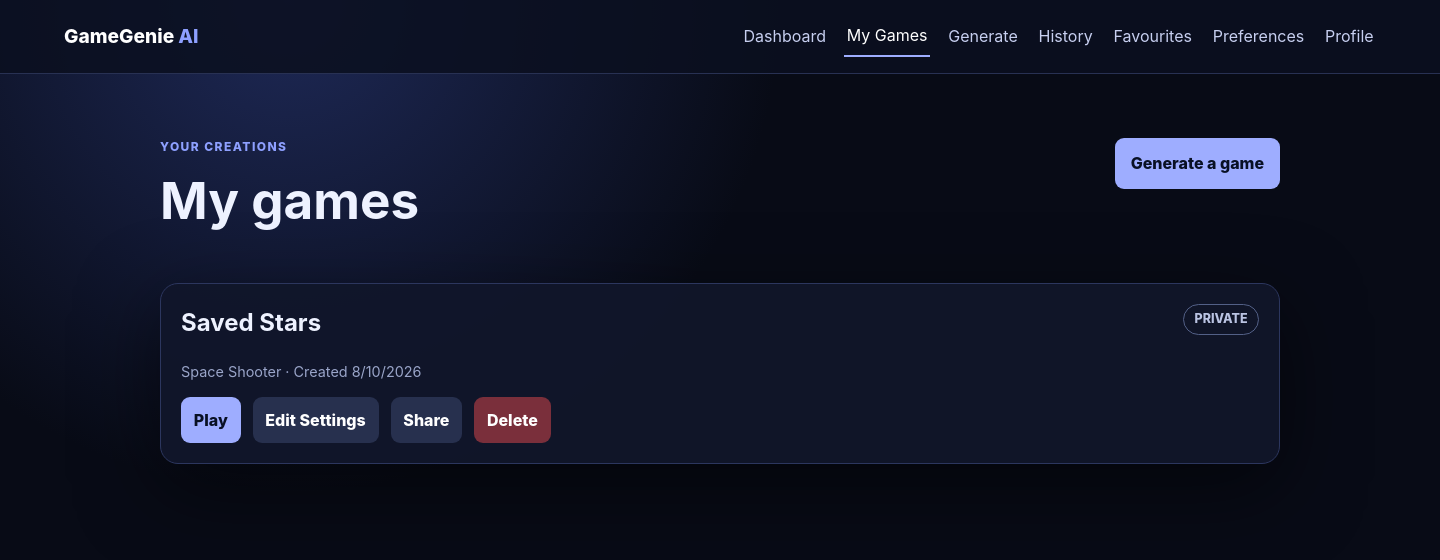
generated-game persistence UI › shares and unshares a saved game
The width and height of the screenshot is (1440, 560).
What coordinates should you click on to do the following:
click the button with aria-label "Share Saved Stars"
I would click on:
 (426, 420)
Its box is left=390, top=397, right=462, bottom=443.
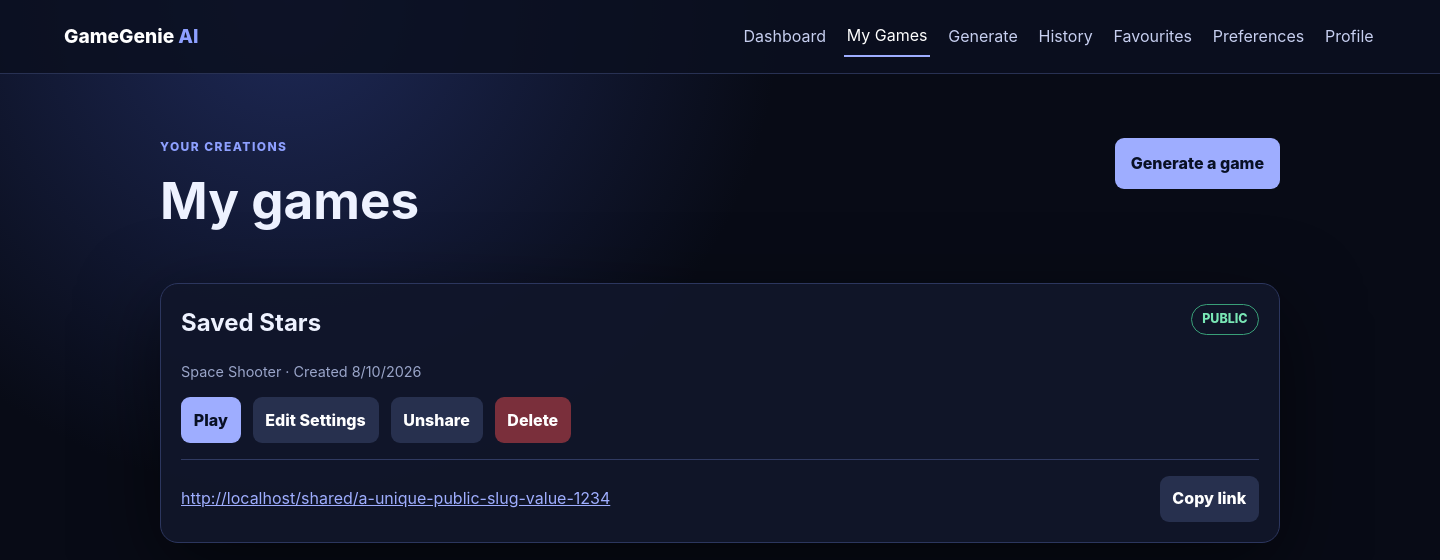
expect the text "Public" is shown: met, box left=1191, top=304, right=1259, bottom=334
What coordinates should you click on to do the following:
click the button with aria-label "Unshare Saved Stars"
I would click on:
 (436, 420)
Its box is left=390, top=397, right=482, bottom=443.
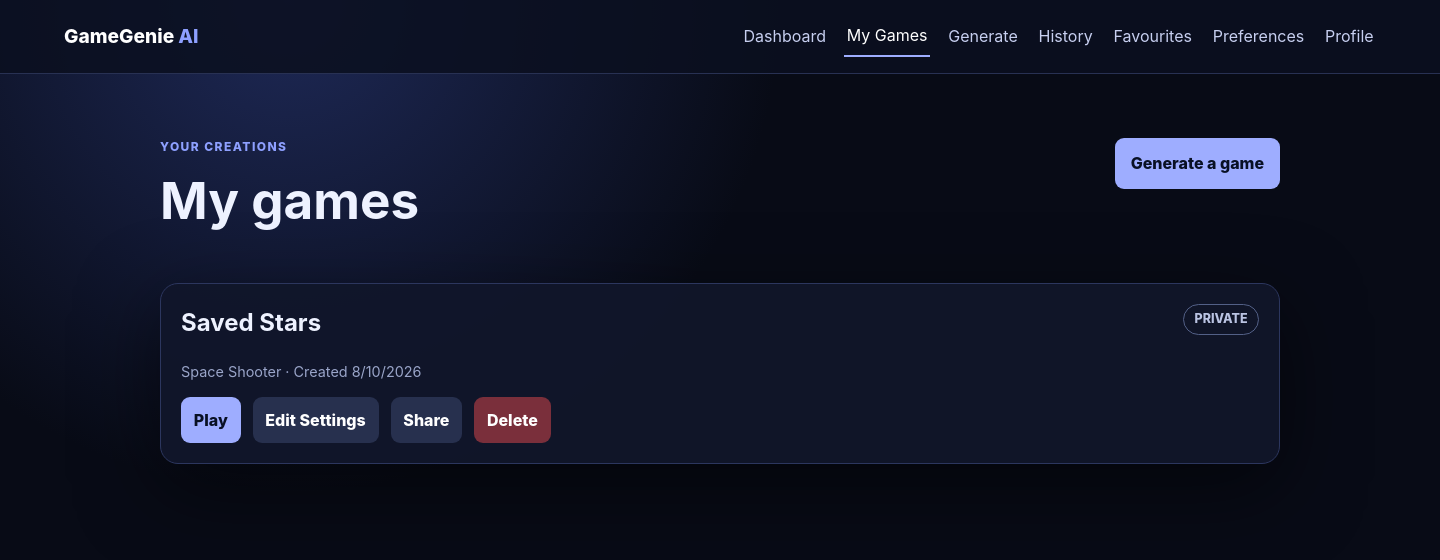
expect the text "Private" is shown: met, box left=1183, top=304, right=1259, bottom=334
expect the link "a-unique-public-slug" is gone: met
